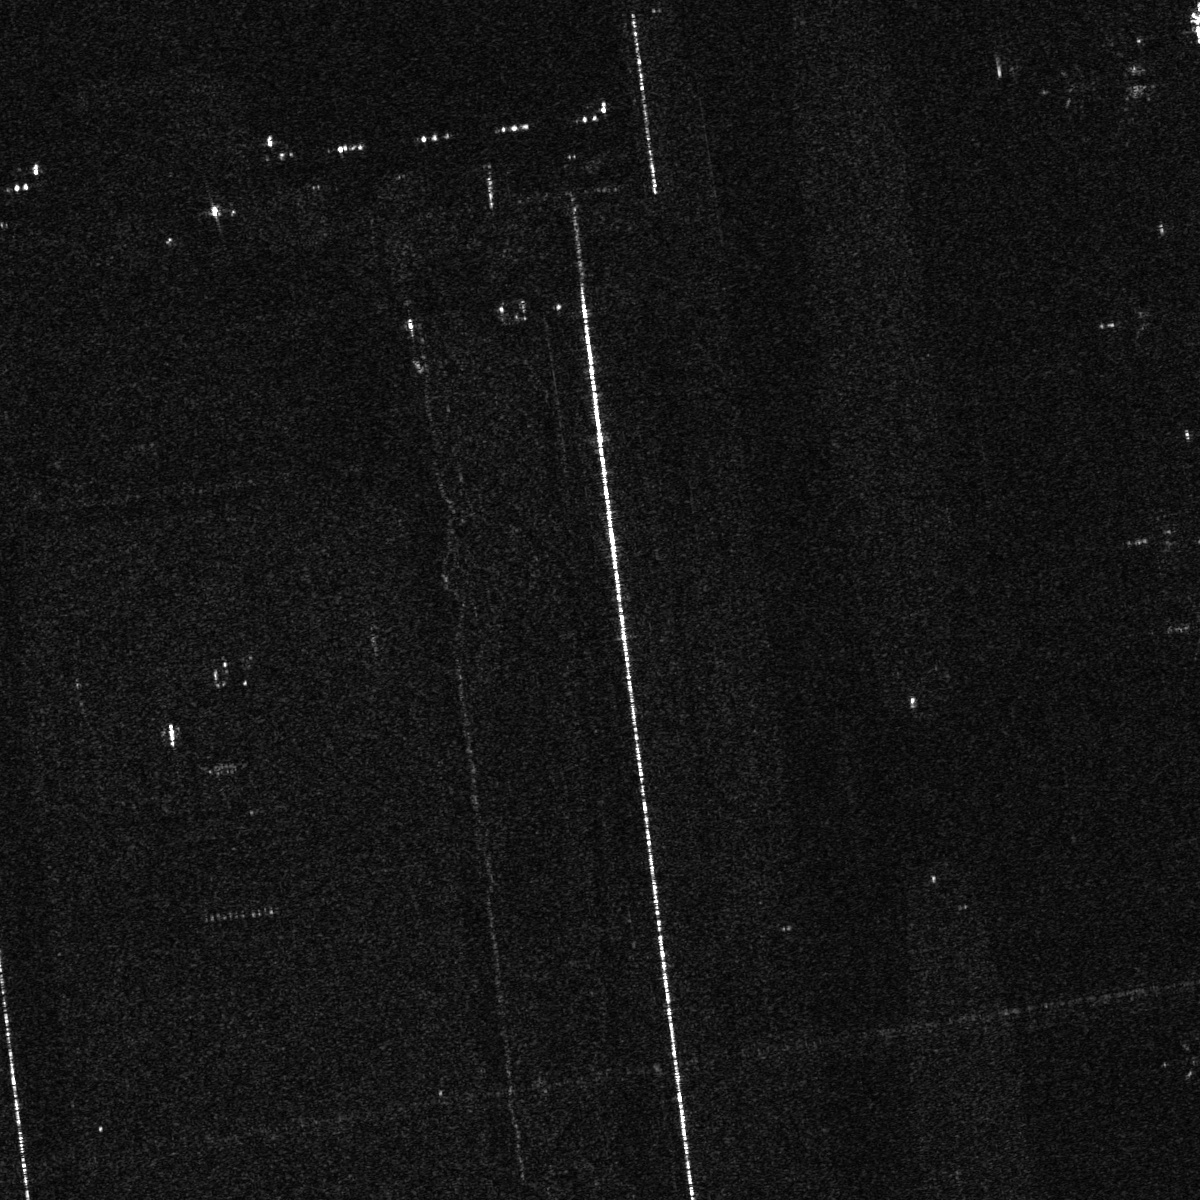Boeing787: (1048, 31, 1170, 138), (1095, 289, 1160, 349)
